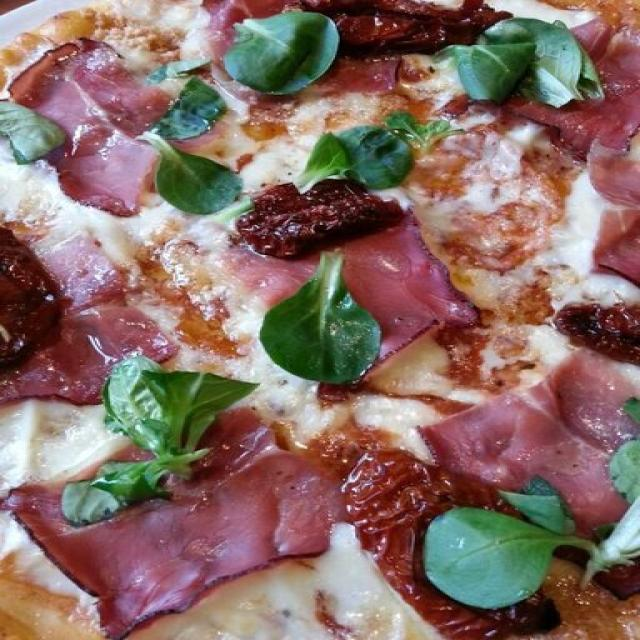Basil: (64, 360, 252, 525), (432, 503, 640, 598), (264, 258, 377, 384), (445, 18, 603, 103), (294, 114, 446, 196), (145, 129, 251, 205), (231, 15, 337, 91), (0, 102, 66, 155), (162, 90, 220, 137)
Ham: (6, 411, 335, 635), (426, 352, 640, 520), (525, 26, 640, 288), (15, 234, 180, 401), (21, 43, 180, 210), (242, 244, 486, 328), (337, 62, 416, 105), (200, 0, 275, 45)
Pizza: (0, 0, 640, 640)
